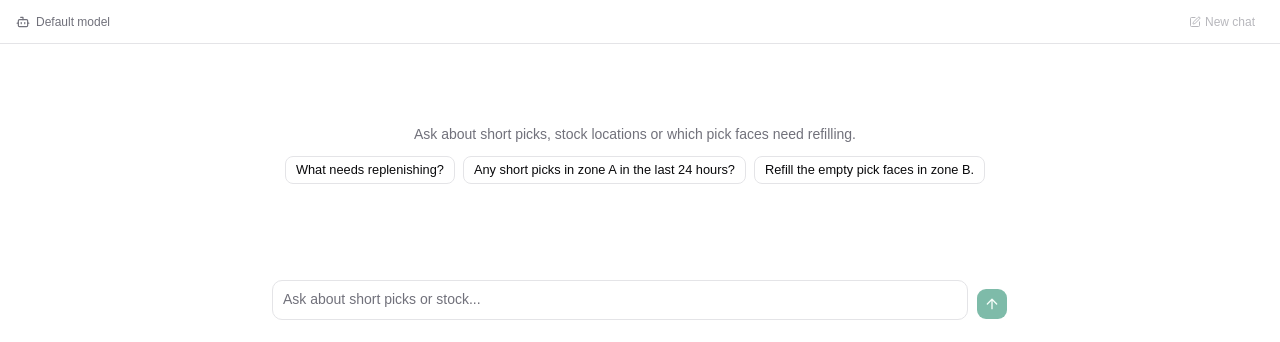
Test: Chat › renders the assistant reply as markdown but leaves what you typed alone
The image size is (1280, 342).
Type "Show **me** the faces" into the text box named "Message".
click(620, 300); type("Show **me** the faces")  # box [272,280,968,320]
Then press Enter
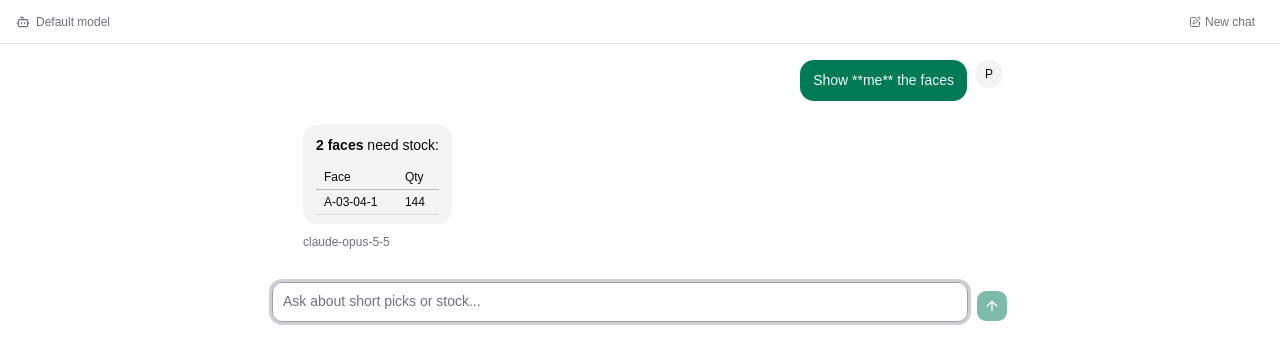
expect the table is shown: met, box [316,164,439,214]
expect the cell "A-03-04-1" is shown: met, box [316,189,397,214]
expect the button "Show **me** the faces" is shown: met, box [800,60,967,101]
